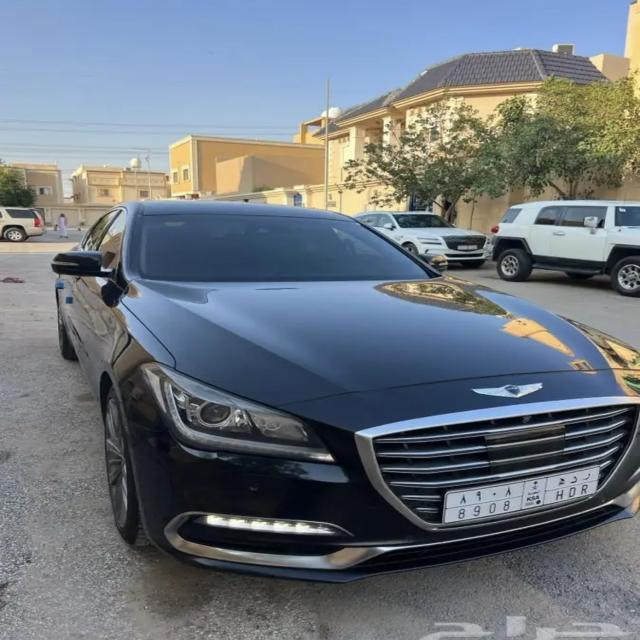license_plate: (444, 466, 600, 524)
